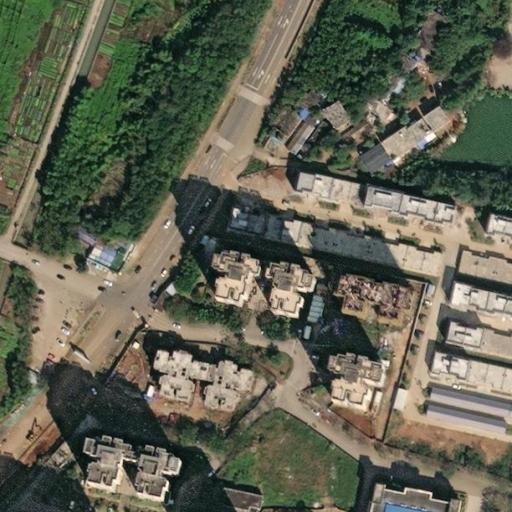building: (72, 439, 169, 505), (328, 282, 403, 324), (140, 346, 197, 400), (191, 357, 244, 415), (418, 386, 512, 418), (318, 357, 369, 411), (360, 482, 451, 512), (199, 257, 247, 310), (255, 275, 304, 323), (415, 403, 494, 431), (412, 4, 447, 52), (83, 236, 123, 271), (146, 274, 182, 311), (367, 122, 405, 157), (281, 162, 321, 195), (439, 273, 477, 305), (345, 138, 380, 172), (476, 326, 512, 358), (473, 281, 512, 310), (272, 120, 303, 156), (454, 358, 492, 387), (351, 178, 390, 206), (433, 312, 472, 340), (317, 171, 356, 198), (320, 221, 357, 249), (404, 188, 441, 215), (259, 101, 289, 133), (309, 95, 339, 126), (475, 207, 511, 232), (410, 100, 438, 128), (393, 111, 421, 138), (346, 103, 373, 128), (219, 486, 252, 506), (372, 240, 396, 265), (390, 242, 412, 269), (353, 228, 377, 252), (488, 365, 512, 389), (408, 248, 430, 273), (369, 77, 394, 99), (385, 184, 407, 209), (418, 345, 440, 370), (287, 87, 310, 110), (463, 253, 485, 276), (287, 221, 308, 244), (374, 69, 397, 90), (445, 243, 466, 266), (482, 257, 503, 280), (357, 97, 379, 118), (232, 204, 253, 226), (268, 214, 290, 235), (436, 348, 456, 370), (217, 199, 236, 222), (304, 225, 323, 247), (382, 47, 403, 66), (376, 56, 396, 75), (252, 213, 271, 231), (381, 386, 396, 408), (321, 498, 341, 512), (372, 93, 388, 110), (500, 262, 512, 281), (292, 113, 307, 127), (285, 105, 299, 120), (252, 139, 266, 152), (244, 133, 257, 145), (305, 282, 316, 293), (361, 198, 378, 205), (296, 306, 309, 314), (360, 391, 368, 404), (297, 301, 311, 308), (301, 296, 313, 304), (302, 290, 314, 298), (358, 402, 366, 413), (295, 312, 307, 319), (292, 326, 298, 338), (294, 316, 298, 323)
